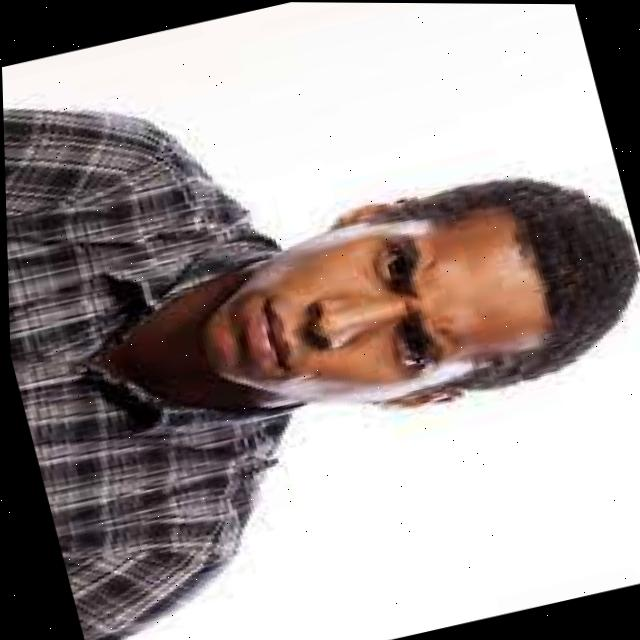angry: (162, 157, 622, 460)
